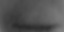RightEyeFatigue: (6, 15, 63, 32)
